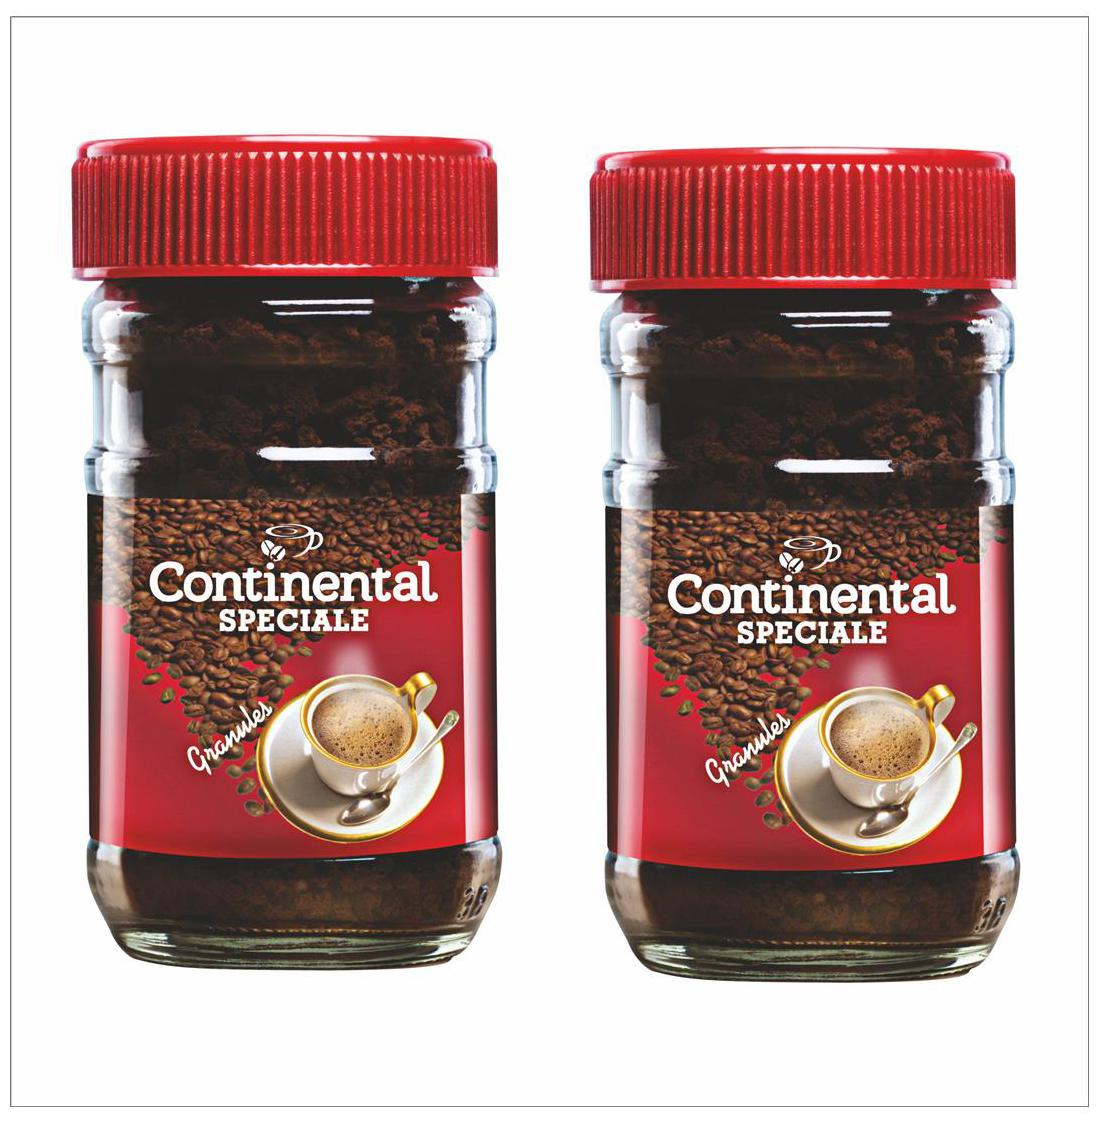JAR: (57, 123, 511, 981), (581, 135, 1027, 989)
